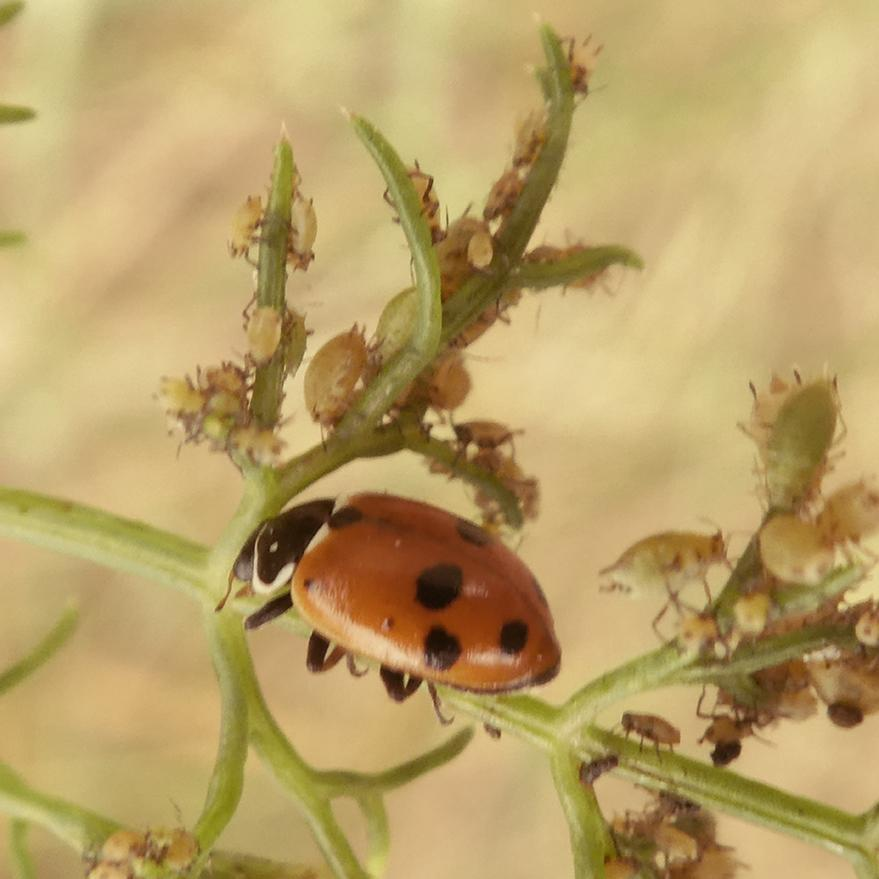ladybug: (214, 489, 569, 741)
